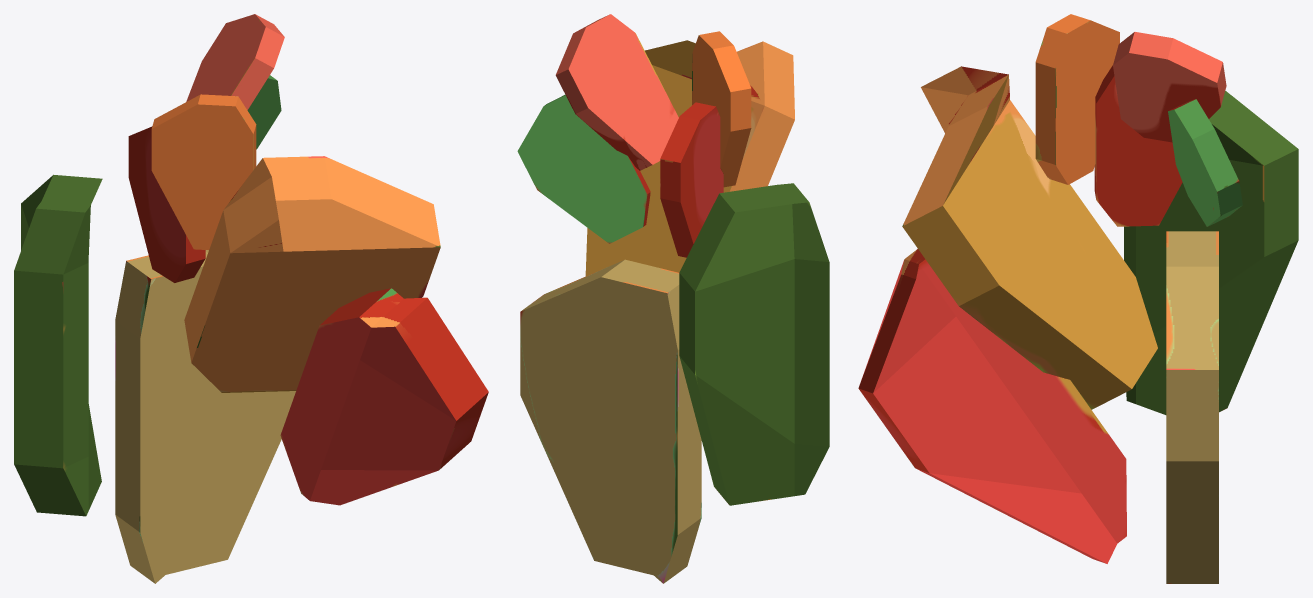
The model's file is comida.fbx.
The picture shows the model from 3 angles, left to right: view 1: azimuth 30°, elevation 25°; view 2: azimuth 150°, elevation 25°; view 3: azimuth 270°, elevation 25°; orthographic projection. The views are drawn at different scales.
Visible parts, largest first — view 1: Comida; view 2: Comida; view 3: Comida.
Part boxes in pixels (<box>): Comida: <box>14,14,488,583</box>; Comida: <box>517,14,829,583</box>; Comida: <box>858,14,1298,583</box>.
Bounding box in the file's own units: 17.68 × 26.44 × 18.48.
